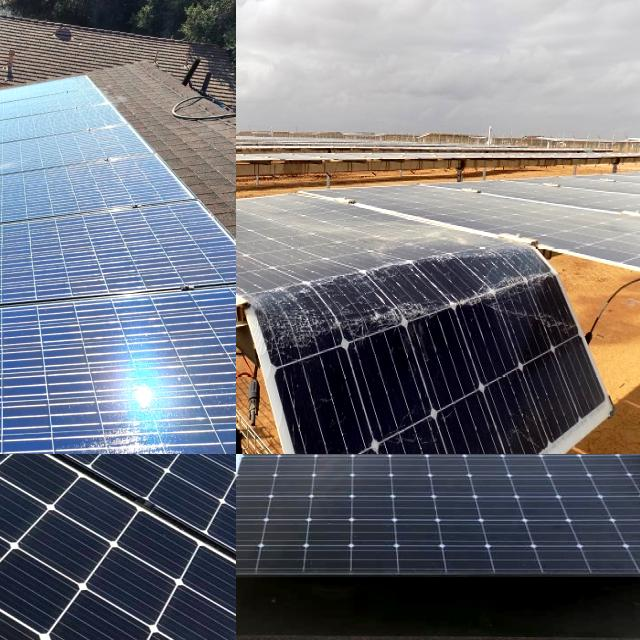crack: (0, 454, 236, 640), (0, 454, 236, 635), (0, 286, 236, 454), (0, 187, 236, 336), (0, 454, 236, 576), (0, 155, 236, 235), (0, 335, 143, 454), (38, 454, 236, 535), (0, 454, 179, 528), (0, 454, 201, 510), (0, 188, 154, 259), (0, 454, 169, 518), (0, 261, 137, 322)
dust: (237, 454, 446, 553), (507, 454, 640, 566), (236, 454, 319, 534)
hotspot: (236, 225, 533, 454)
